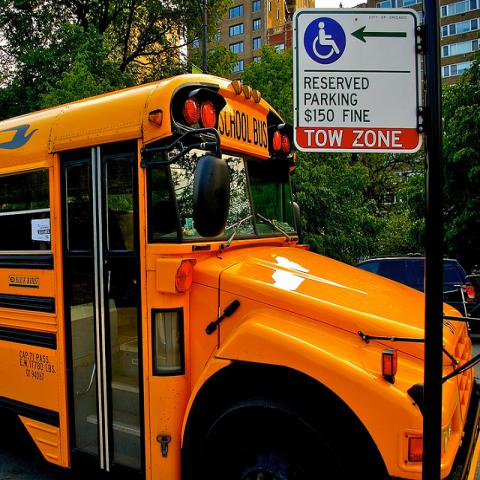bus: (2, 69, 480, 475)
car: (358, 256, 466, 315), (461, 276, 480, 334)
